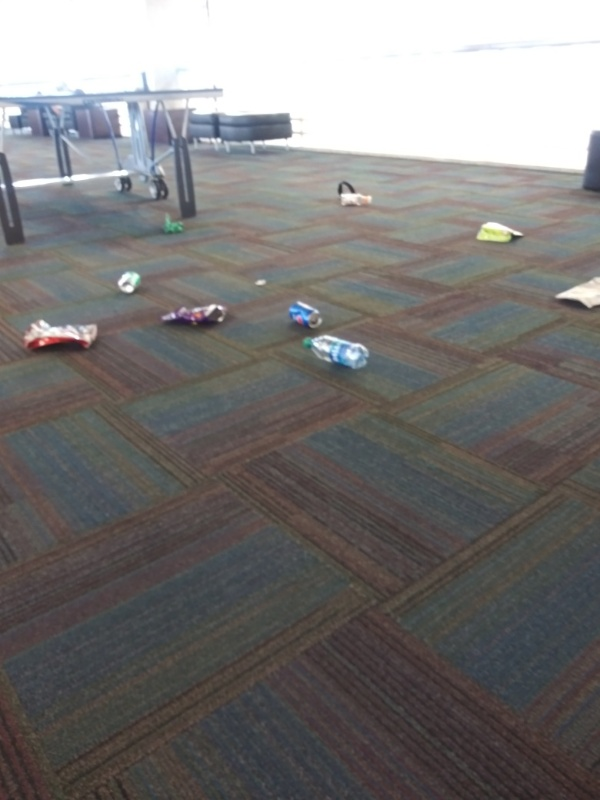bag: (17, 317, 100, 357), (157, 301, 229, 334), (550, 273, 600, 314), (474, 217, 526, 248)
bottle: (294, 333, 369, 372), (336, 188, 377, 211)
can: (284, 295, 326, 330), (112, 264, 145, 297)
